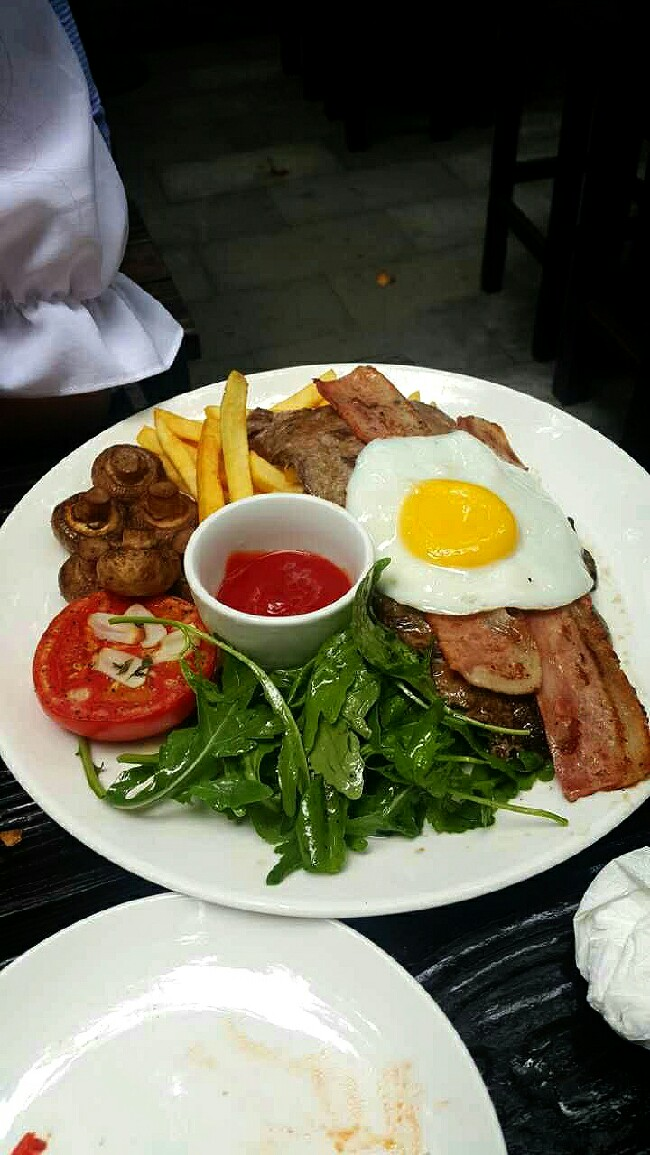fried egg: (356, 426, 568, 616)
